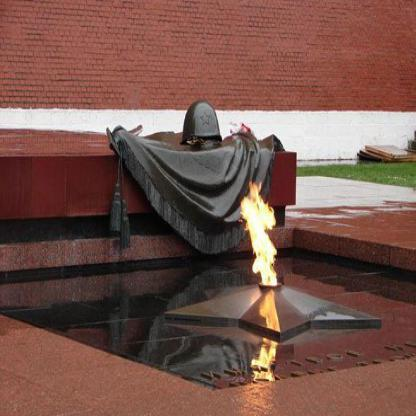fire: (242, 181, 273, 229), (252, 229, 276, 284), (254, 346, 278, 383), (262, 290, 280, 332)
